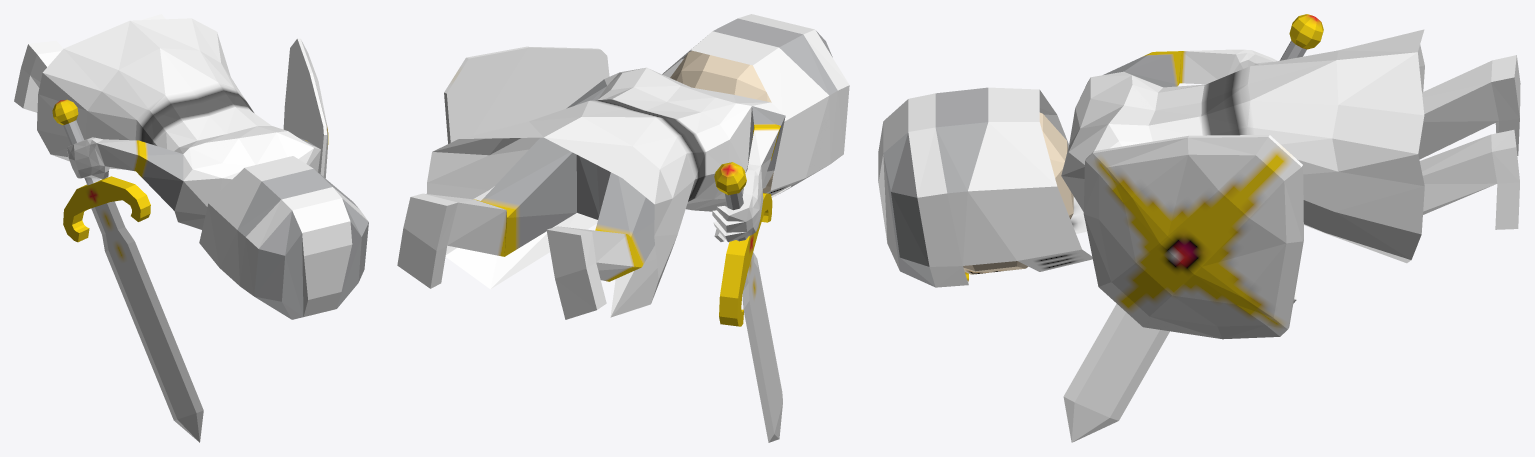
Rendered from knight_ready.obj.
The picture shows the model from 3 angles, left to right: view 1: azimuth 30°, elevation 25°; view 2: azimuth 150°, elevation 25°; view 3: azimuth 270°, elevation 25°; orthographic projection. The views are drawn at different scales.
Visible parts, largest first — view 1: knight; view 2: knight; view 3: knight.
Part boxes in pixels (x1,y1,x2,y2): knight: [14, 14, 368, 442]; knight: [397, 14, 849, 442]; knight: [878, 14, 1520, 442].
Bounding box in the file's own units: 4.99 × 6.28 × 8.53.
